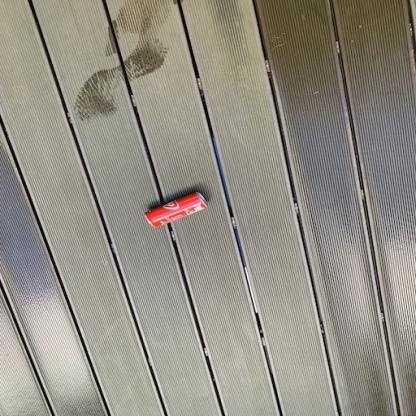trash: (145, 192, 206, 226)
